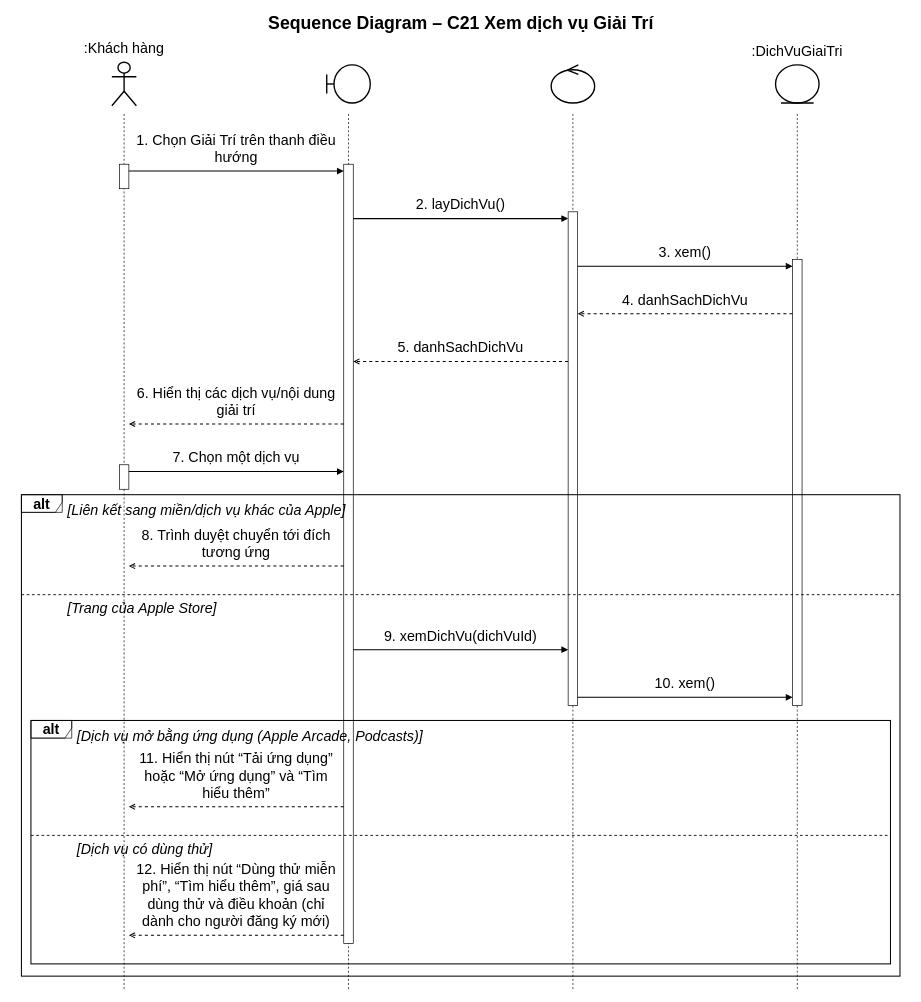
The diagram is 921 pixels wide and 1002 high, and some of its shapes have lost their labels. The shapes that lost their labels are listed below. From the top down, each one's centre as x and y in pixels, then its label:
the point at 348,83: :XemGiaiTriPage
the point at 572,83: :XemGiaiTriController
